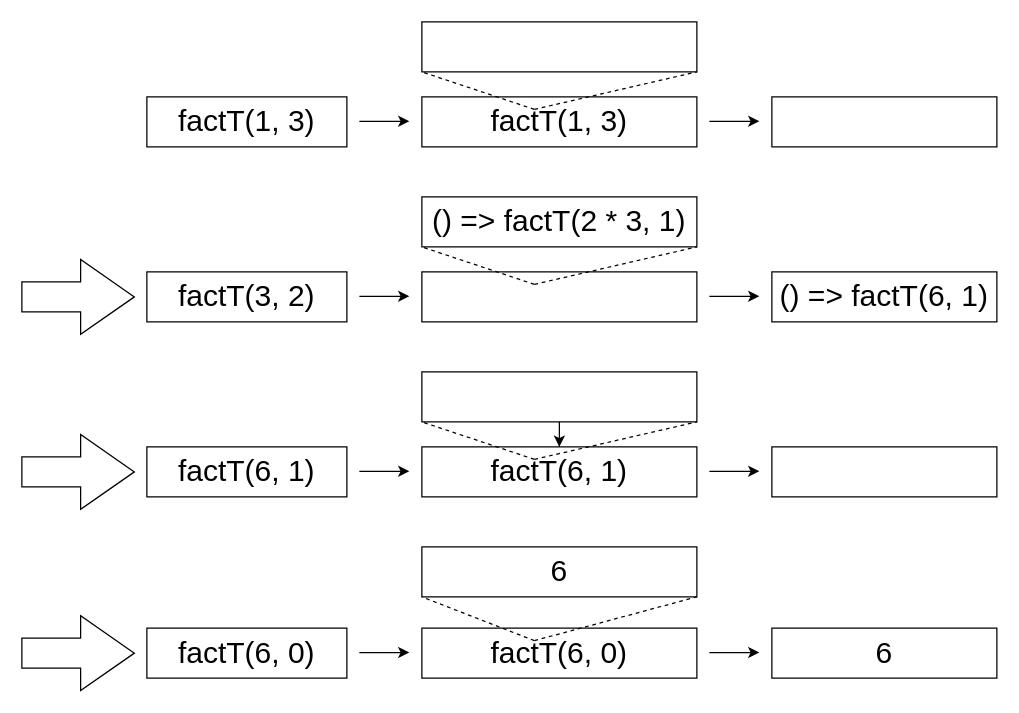
This 1019x713 diagram has some shape labels left out. The box of each missing label's shape, as (x1, y1, x2, y2) in pixels:
() => factT(1 * 6, 0): (421, 371, 697, 422)
() => factT(3 * 1, 2): (421, 21, 697, 72)
() => factT(3, 2): (771, 96, 997, 147)
() => factT(6, 0): (771, 446, 997, 497)
factT(6, 2): (421, 271, 697, 322)
